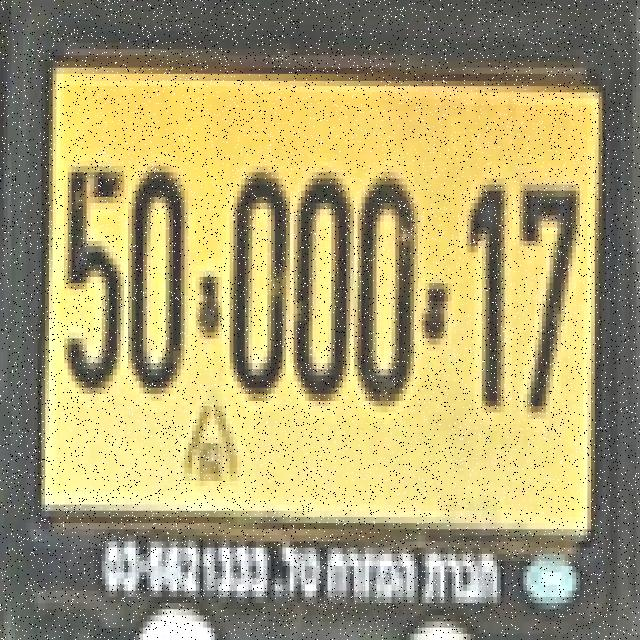licenseplate: (33, 25, 612, 625)
